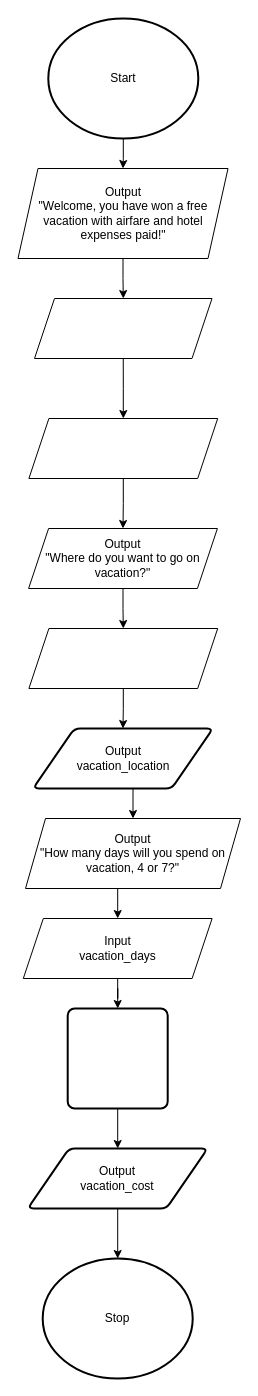
The diagram is 258 pixels wide and 1396 high, and some of its shapes have lost their labels. Each missing label, with the box of its shape:
Input users_name: (28, 418, 218, 478)
Input vacation_location: (28, 628, 218, 688)
Output "What is your name?": (34, 298, 212, 358)
Process vacation_cost = vacation_days * 100: (66, 1007, 168, 1109)
